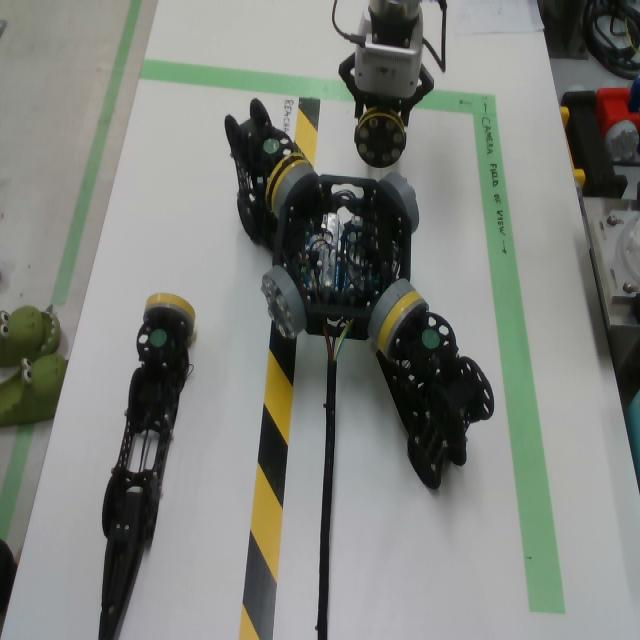body: (272, 175, 411, 341)
body_connector: (260, 265, 306, 340), (367, 279, 414, 347), (379, 172, 420, 235), (272, 164, 317, 219)
gripper: (339, 12, 434, 124)
leg: (99, 295, 195, 638), (367, 279, 495, 491), (225, 101, 310, 257)
leg_connector: (354, 105, 406, 168), (378, 291, 428, 355), (265, 155, 308, 215), (143, 293, 196, 335)
leg_marker: (421, 328, 440, 352), (149, 331, 167, 348), (262, 136, 278, 155)
